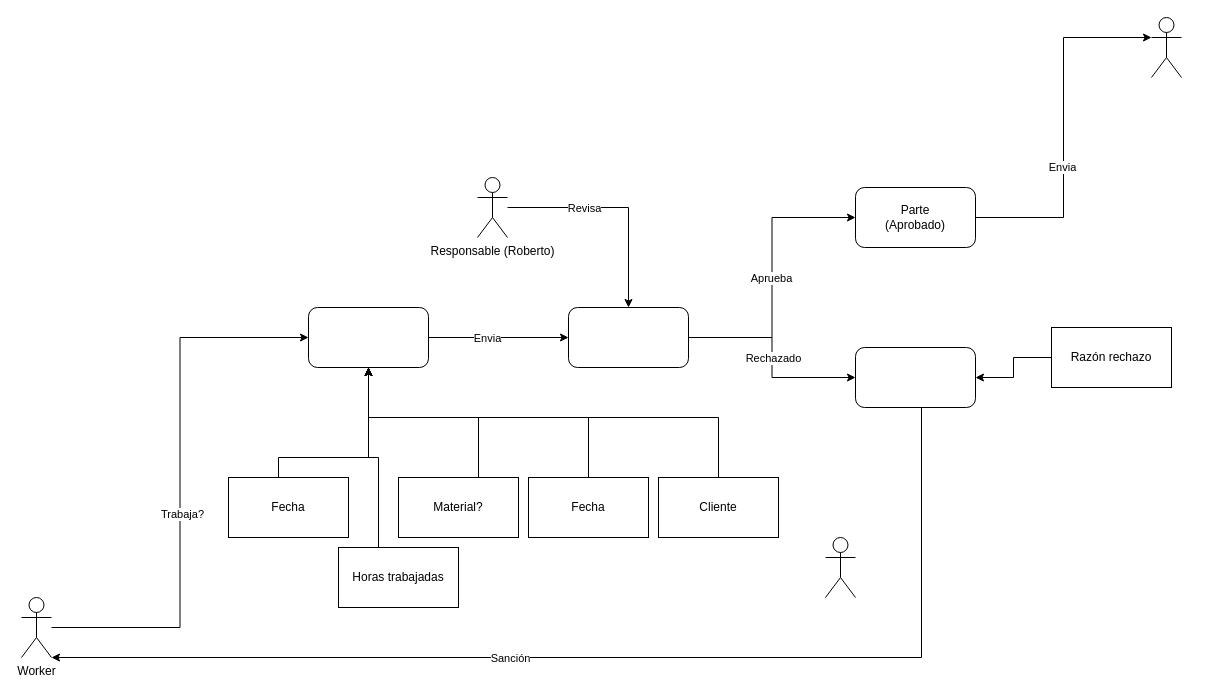
Some shapes in this 1229 by 696 pixel diagram are drawn without their labels. The shapes that lost their labels are listed below. From the top down, each one's centre as x and y in pixels, then its label:
At point (1166, 47): "Empresa (Rober)".
At point (368, 337): "Parte (Borrador)".
At point (628, 337): "Parte (Enviado)".
At point (915, 377): "Parte (Rezachado)".
At point (840, 567): "Edel".
